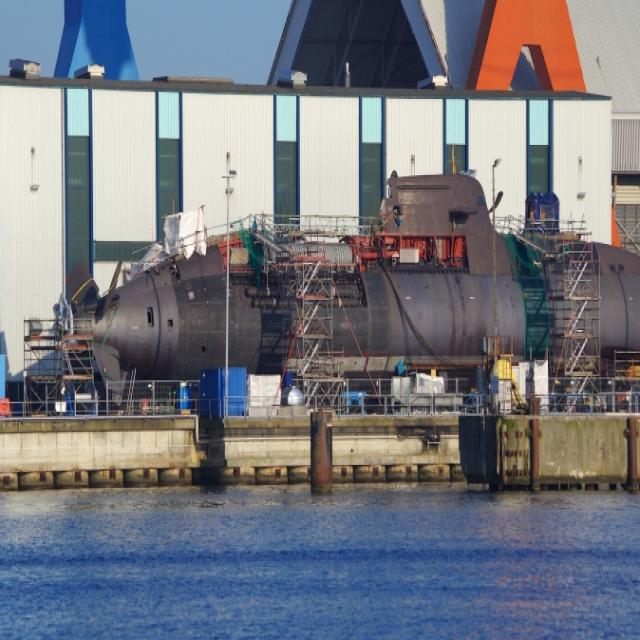submarine: (55, 176, 640, 368)
